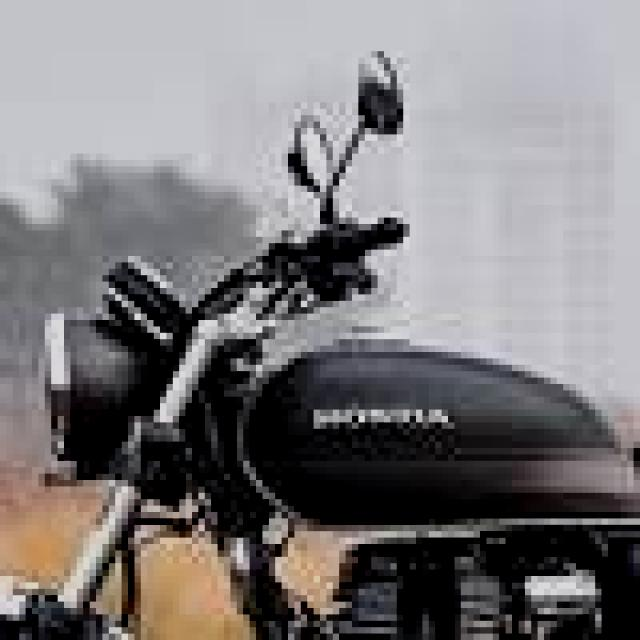MOTORCYCLE: (15, 63, 638, 640)
